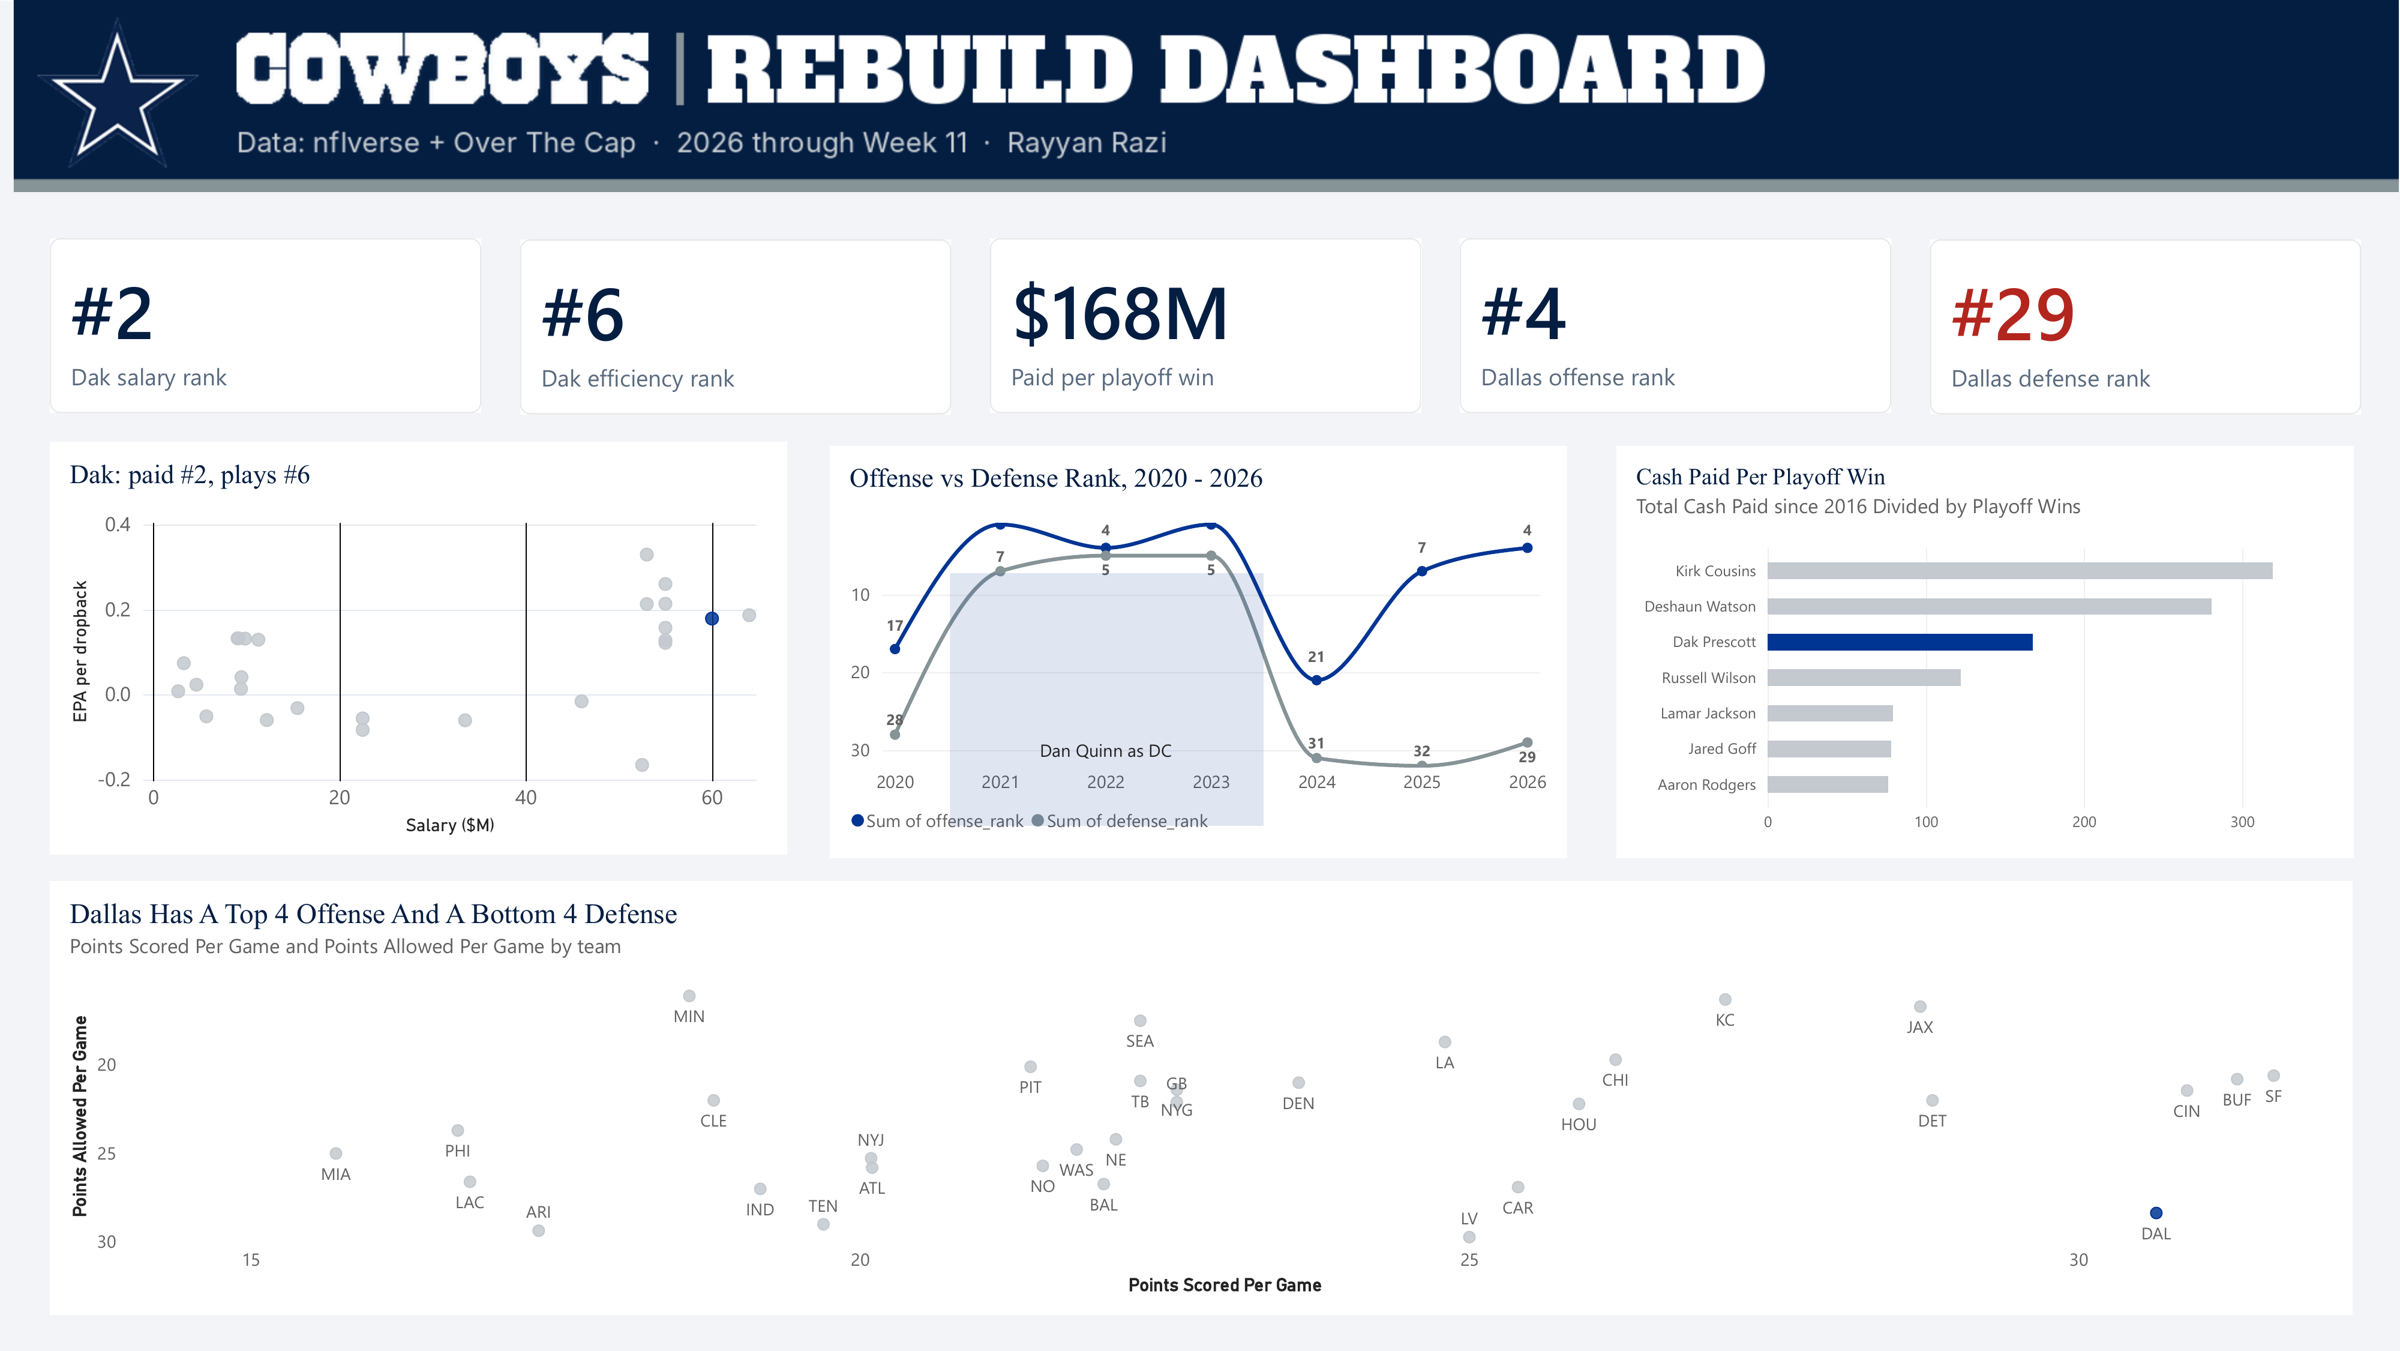

What the dashboard file says about the page in this screenshot:
{"tool":"powerbi","page":{"name":"Page 1","canvas":[1920,1080],"ordinal":0},"visuals":[{"type":"image","box":[11.3,0,1907.7,153.1],"z":0},{"type":"cardVisual","fields":{"Data":["qb_cost_per_playoff_win.Dak salary rank"]},"box":[40,190,345,140],"z":1000},{"type":"cardVisual","fields":{"Data":["qb_cost_per_playoff_win.Dak efficiency rank"]},"box":[416,190.8,345,140],"z":2000},{"type":"cardVisual","fields":{"Data":["qb_cost_per_playoff_win.Dallas defense rank"]},"box":[1544,190.8,345,140],"z":3000},{"type":"cardVisual","fields":{"Data":["qb_cost_per_playoff_win.Dallas offense rank"]},"box":[1168,190,345,140],"z":4000},{"type":"cardVisual","fields":{"Data":["qb_cost_per_playoff_win.Paid per playoff win"]},"box":[792,190,345,140],"z":5000},{"type":"scatterChart","title":"Dak: paid #2, plays #6","fields":{"Category":["qb_salary_vs_epa_2026.qb"],"X":["Sum(qb_salary_vs_epa_2026.salary_m)"],"Y":["Sum(qb_salary_vs_epa_2026.epa_per_dropback)"]},"box":[40,353.3,590,330],"z":6000},{"type":"lineChart","title":"Offense vs Defense Rank, 2020 - 2026","fields":{"Category":["team_ranks_by_season.season"],"Y":["Sum(team_ranks_by_season.offense_rank)","Sum(team_ranks_by_season.defense_rank)"]},"box":[664.4,355.6,590,330],"z":7000},{"type":"shape","box":[760,457.8,251.1,202.2],"z":8000},{"type":"textbox","box":[790,590,150,30],"z":9000},{"type":"barChart","title":"Cash Paid Per Playoff Win","fields":{"Category":["qb_cost_per_playoff_win.qb"],"Y":["Sum(qb_cost_per_playoff_win.cash_per_playoff_win_m)"]},"box":[1293.3,355.6,590,330],"z":9001},{"type":"scatterChart","title":"Dallas Has A Top 4 Offense And A Bottom 4 Defense","fields":{"Category":["team_ranks_by_season.team"],"X":["Sum(team_ranks_by_season.points_for_pg)"],"Y":["Sum(team_ranks_by_season.points_against_pg)"]},"box":[40,704.4,1842.2,346.7],"z":9002}]}

Visuals, with their boxes in screenshot pixels (x1, y1, x2, y2), scaled from the page's 1920x1080 canvas onto the 2400x1351 screenshot:
image: box(14, 0, 2399, 192)
cardVisual - qb_cost_per_playoff_win.Dak salary rank: box(50, 238, 481, 413)
cardVisual - qb_cost_per_playoff_win.Dak efficiency rank: box(520, 239, 951, 414)
cardVisual - qb_cost_per_playoff_win.Dallas defense rank: box(1930, 239, 2361, 414)
cardVisual - qb_cost_per_playoff_win.Dallas offense rank: box(1460, 238, 1891, 413)
cardVisual - qb_cost_per_playoff_win.Paid per playoff win: box(990, 238, 1421, 413)
"Dak: paid #2, plays #6" scatterChart: box(50, 442, 788, 855)
"Offense vs Defense Rank, 2020 - 2026" lineChart: box(830, 445, 1568, 858)
shape: box(950, 573, 1264, 826)
textbox: box(988, 738, 1175, 776)
"Cash Paid Per Playoff Win" barChart: box(1617, 445, 2354, 858)
"Dallas Has A Top 4 Offense And A Bottom 4 Defense" scatterChart: box(50, 881, 2353, 1315)
